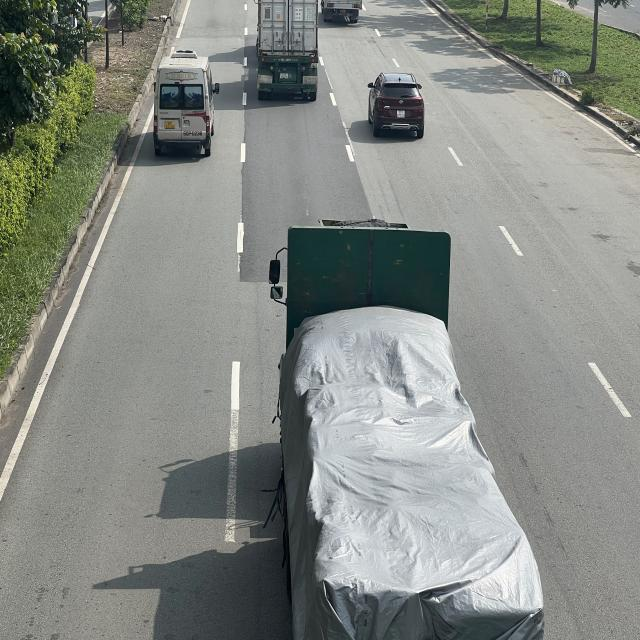car: (369, 69, 427, 135)
container: (272, 226, 558, 639), (256, 2, 321, 102)
van: (154, 53, 220, 154)
